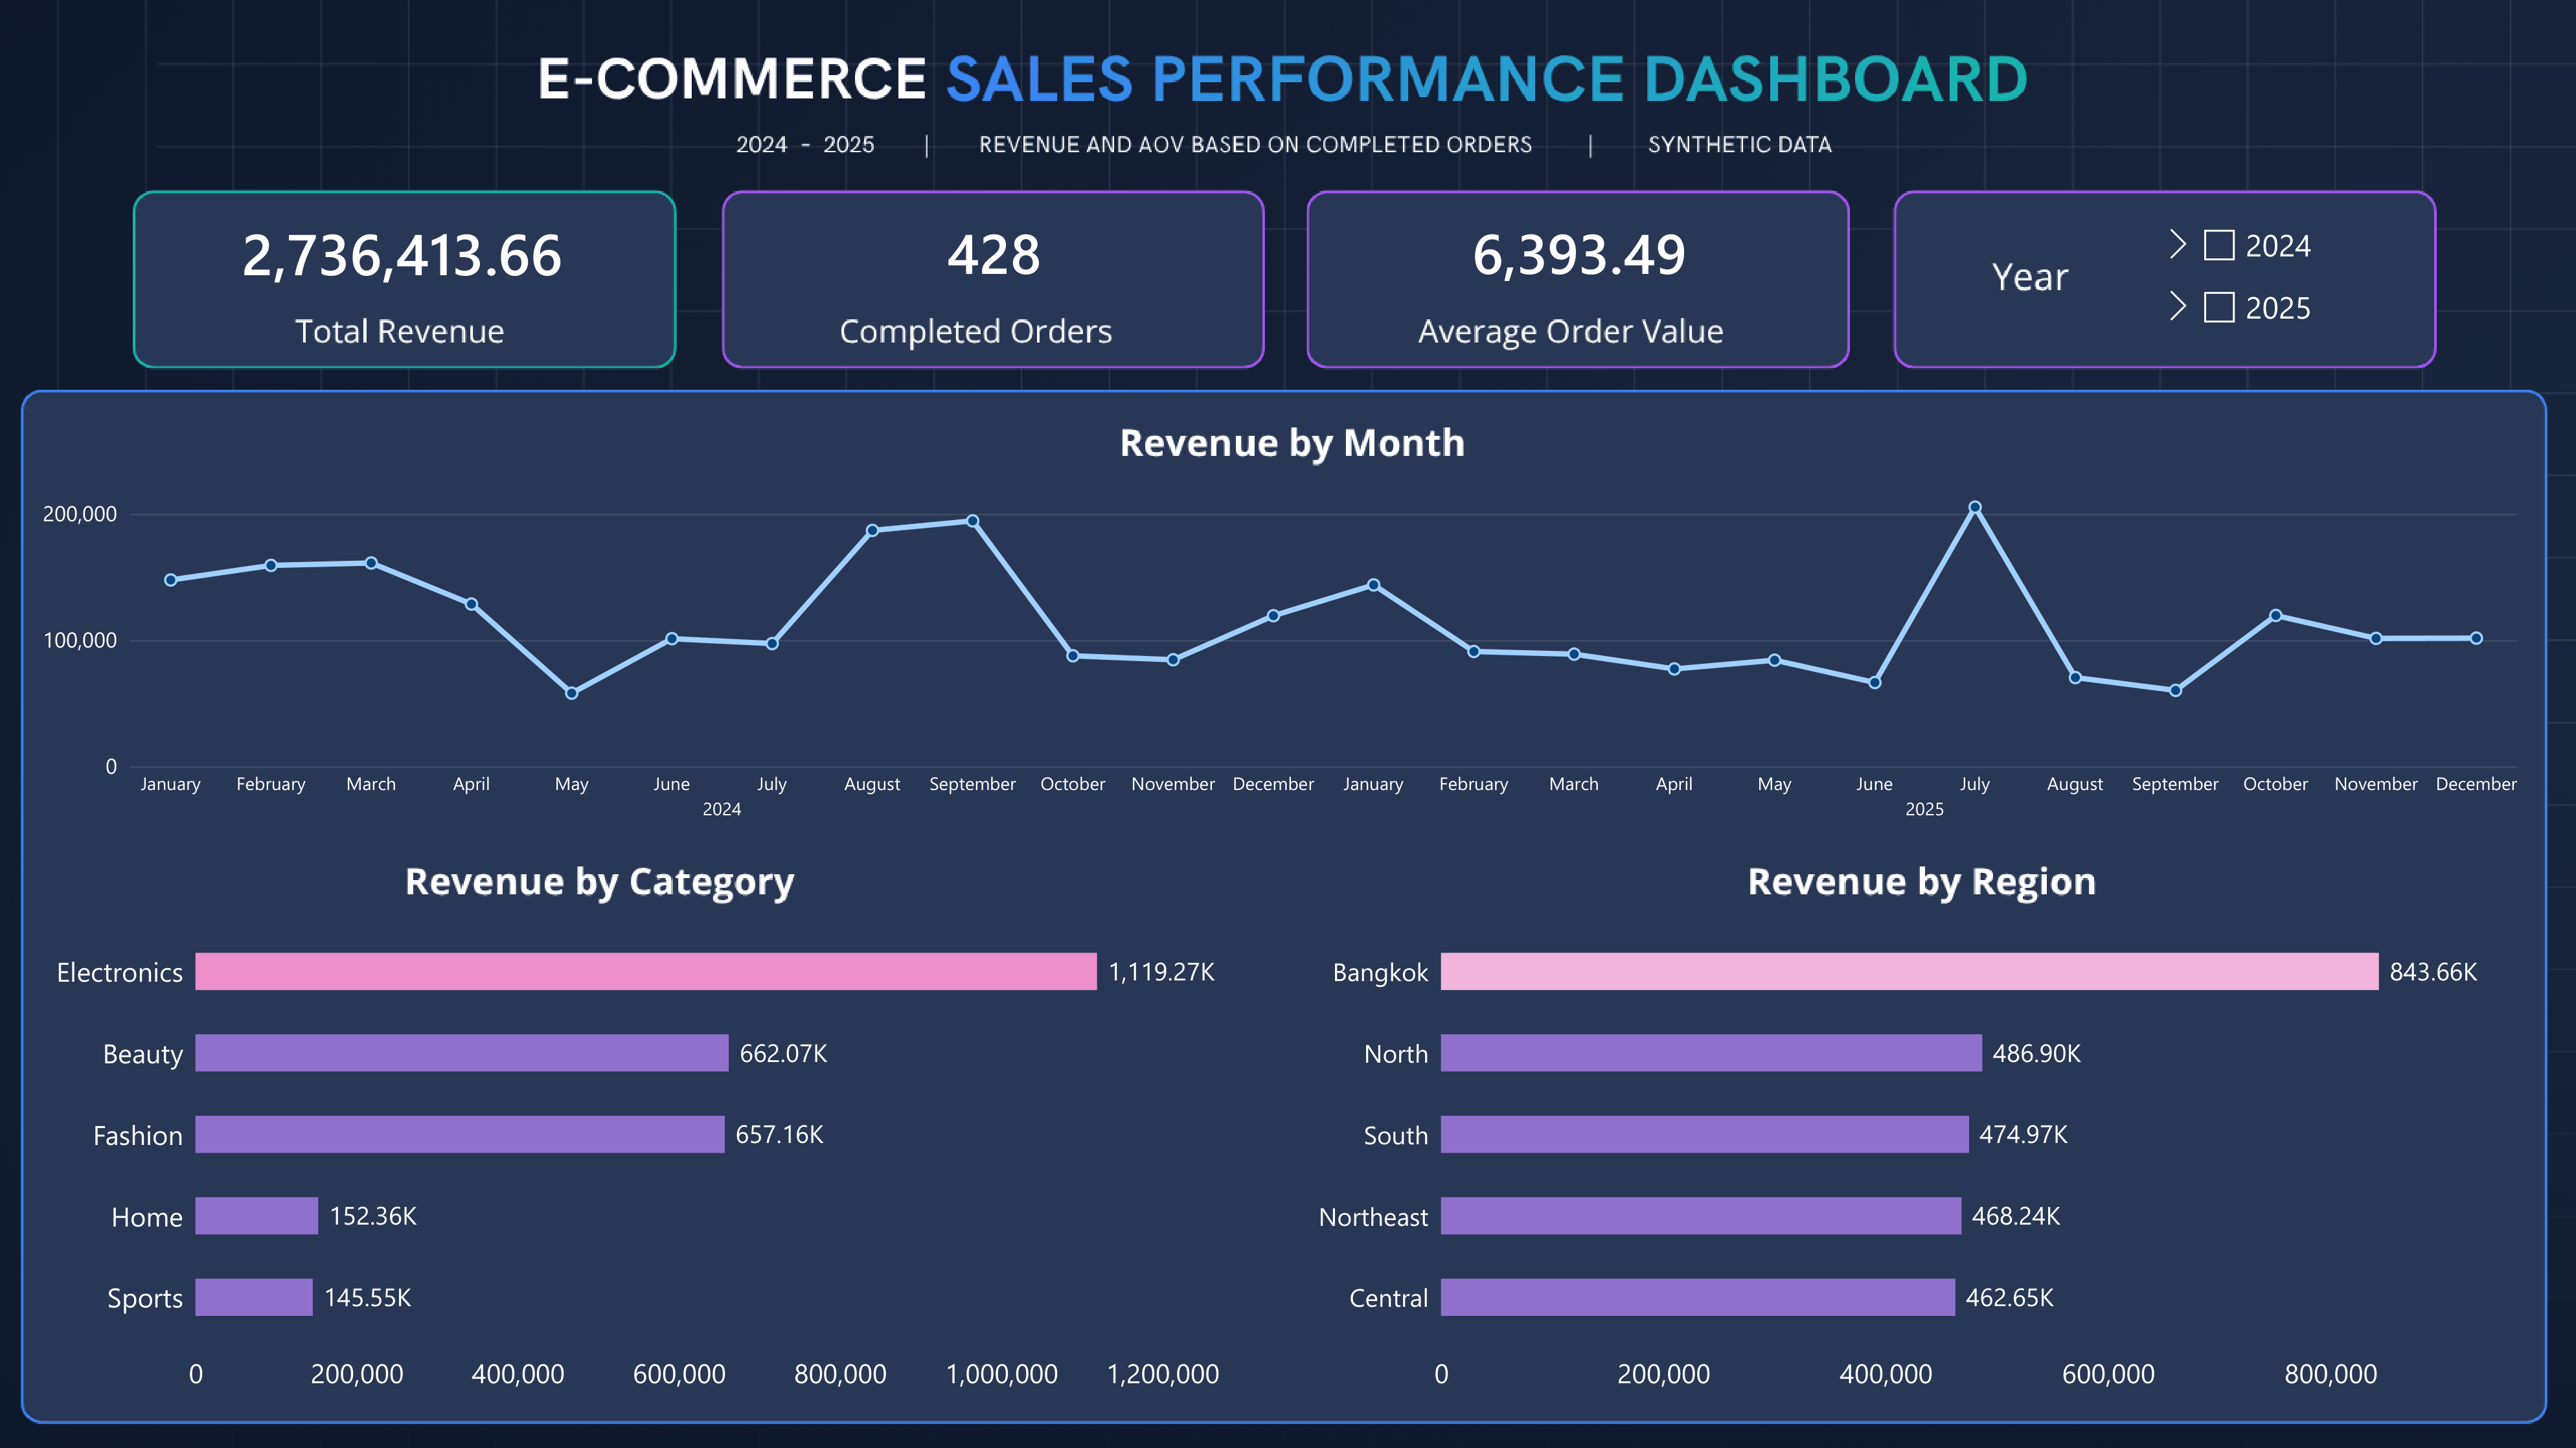

What the dashboard file says about the page in this screenshot:
{"tool":"powerbi","page":{"name":"Page 1","canvas":[1920,1080],"ordinal":0},"visuals":[{"type":"cardVisual","fields":{"Data":["orders.Total Revenue"]},"box":[104,146.7,404,84],"z":0},{"type":"cardVisual","fields":{"Data":["Measure.Total Order"]},"box":[550.1,146.9,390,83.3],"z":1000},{"type":"cardVisual","fields":{"Data":["Measure.AOV"]},"box":[976.8,146.9,403.3,83.3],"z":2000},{"type":"lineChart","title":"Revenue by month","fields":{"Category":["orders.Month.Variation.Date Hierarchy.Year","orders.Month.Variation.Date Hierarchy.Month"],"Y":["Measure.Total Revenue"]},"box":[23.4,314.2,1869.8,323.3],"z":3000},{"type":"slicer","fields":{"Values":["orders.order_date.Variation.Date Hierarchy.Year","orders.order_date.Variation.Date Hierarchy.Month"]},"box":[1603.1,161.4,204.7,107],"z":4000},{"type":"barChart","fields":{"Category":["products.category"],"Y":["Measure.Total Revenue"]},"box":[25.6,662.8,934.9,393],"z":5000},{"type":"barChart","fields":{"Category":["customers.region"],"Y":["Measure.Total Revenue"]},"box":[961,663,935,393],"z":6000}]}

Visuals, with their boxes in screenshot pixels (x1, y1, x2, y2), scaled from the page's 1920x1080 canvas onto the 2576x1448 screenshot:
cardVisual - orders.Total Revenue: <region>139, 197, 681, 310</region>
cardVisual - Measure.Total Order: <region>738, 197, 1261, 309</region>
cardVisual - Measure.AOV: <region>1310, 197, 1852, 309</region>
"Revenue by month" lineChart: <region>31, 422, 2540, 855</region>
slicer - orders.order_date.Variation.Date Hierarchy.Year x orders.order_date.Variation.Date Hierarchy.Month: <region>2151, 216, 2426, 360</region>
barChart - products.category x Measure.Total Revenue: <region>34, 888, 1289, 1416</region>
barChart - customers.region x Measure.Total Revenue: <region>1290, 889, 2544, 1416</region>
